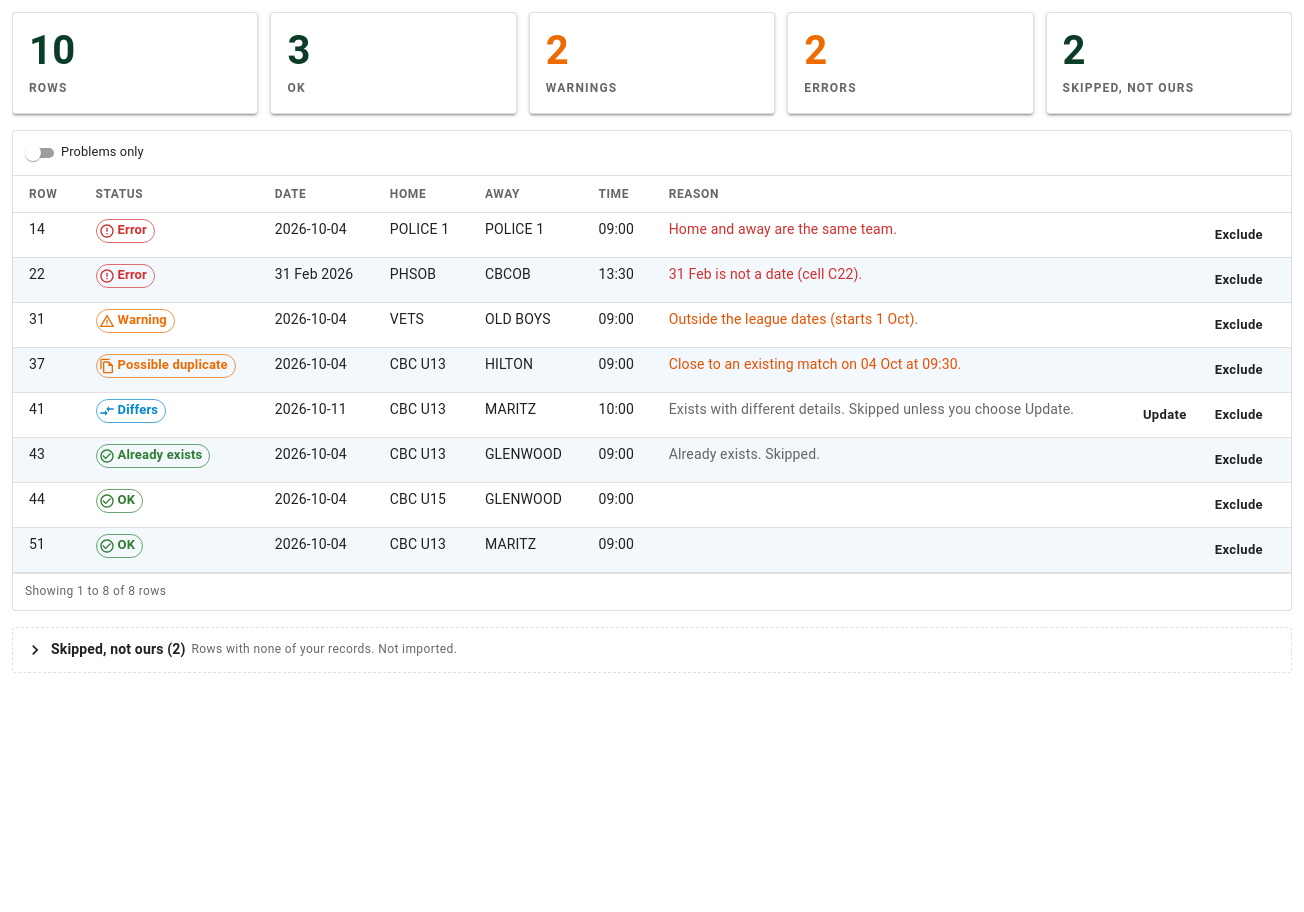
Scenario: ImportIssueTable › toggles Exclude and Include on a row
The image size is (1304, 912).
Expected: the row with test id "import-row-14" is shown, x1=13 y1=212 x2=1291 y2=257
Click the button with aria-label "Exclude row 14" at (1239, 235), box x1=1203 y1=219 x2=1275 y2=251
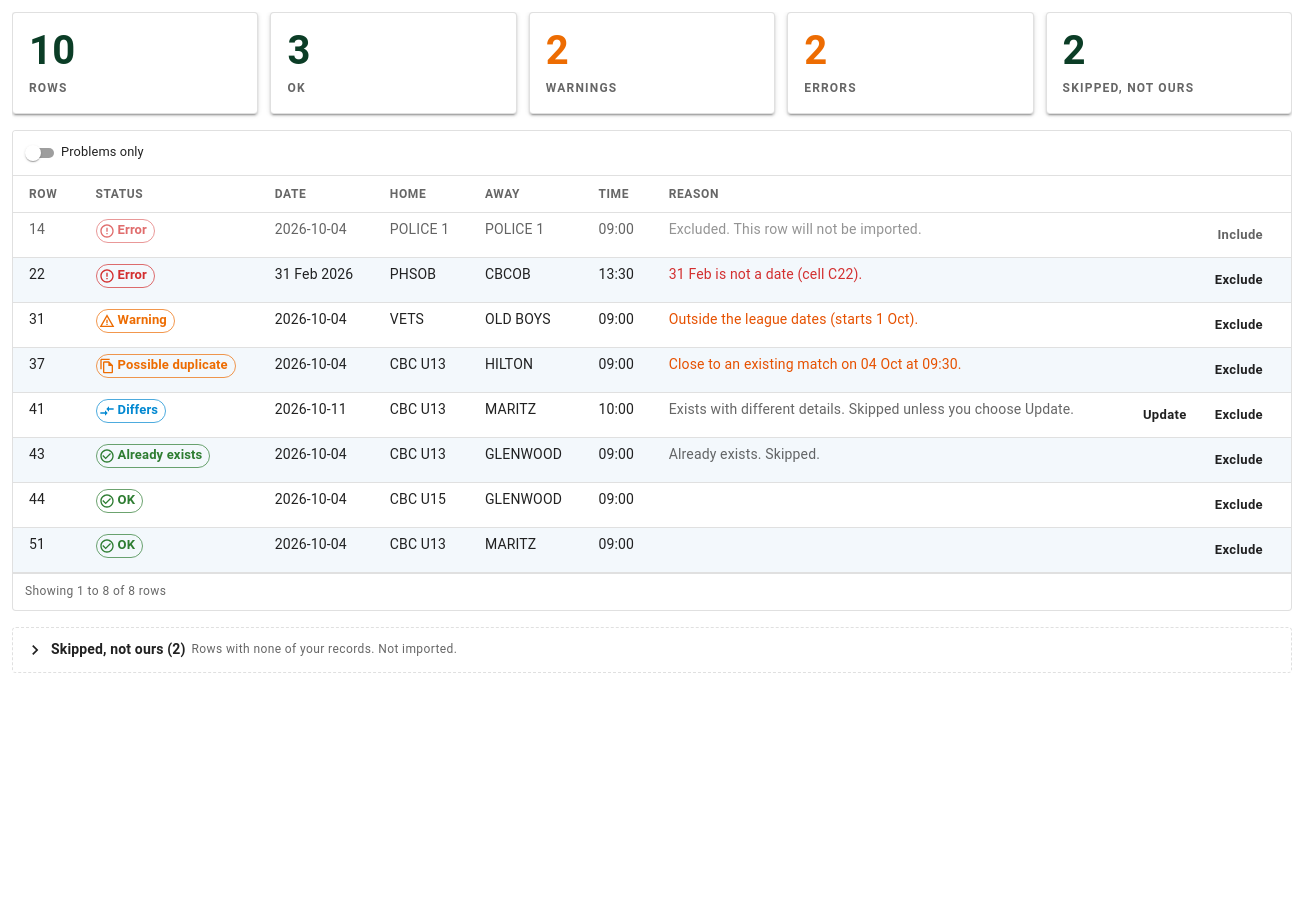
Expected: the button with aria-label "Include row 14" is shown, x1=1205 y1=219 x2=1275 y2=251
Expected: the text "Excluded. This row will not be imported." is shown, x1=653 y1=212 x2=1108 y2=257
